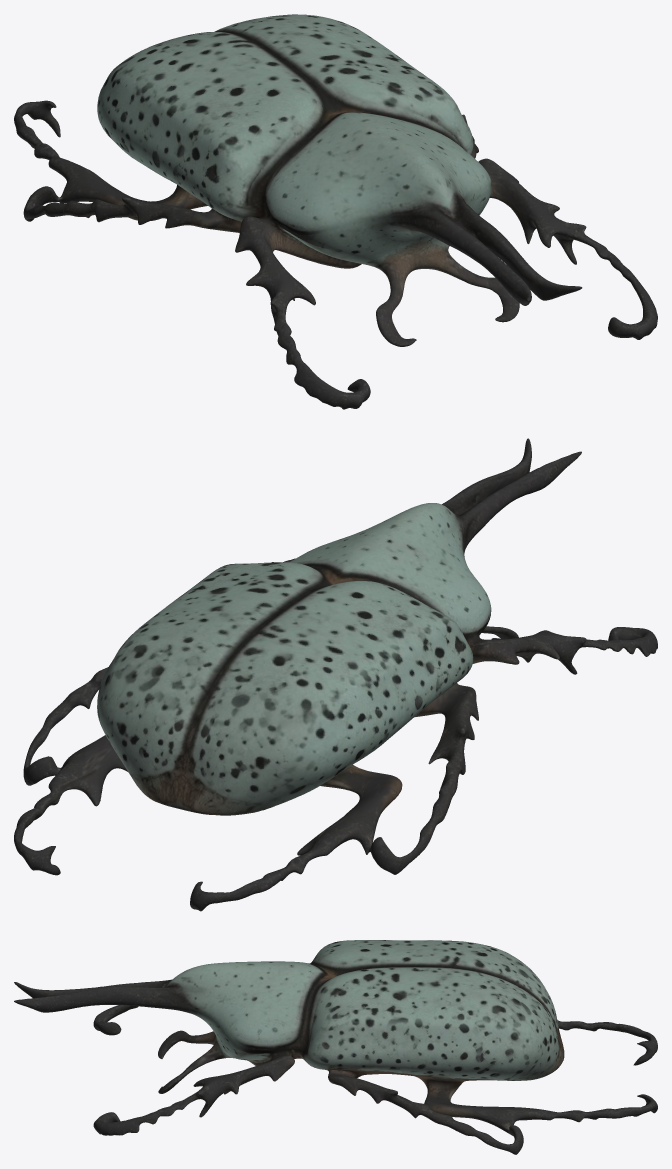
The model's file is beetle-product-design.glb.
3 renders of one model, top to bottom at view 1: azimuth 30°, elevation 25°; view 2: azimuth 150°, elevation 25°; view 3: azimuth 270°, elevation 25°, orthographic. The views are drawn at different scales.
Bounding box in the file's own units: 0.9912 × 0.4141 × 1.9.
1 material, 1 textured.
